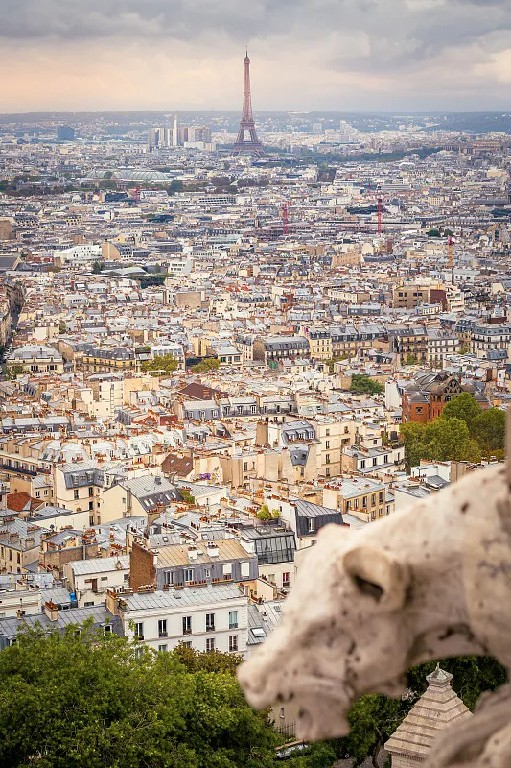Eiffel: (231, 45, 262, 152)
